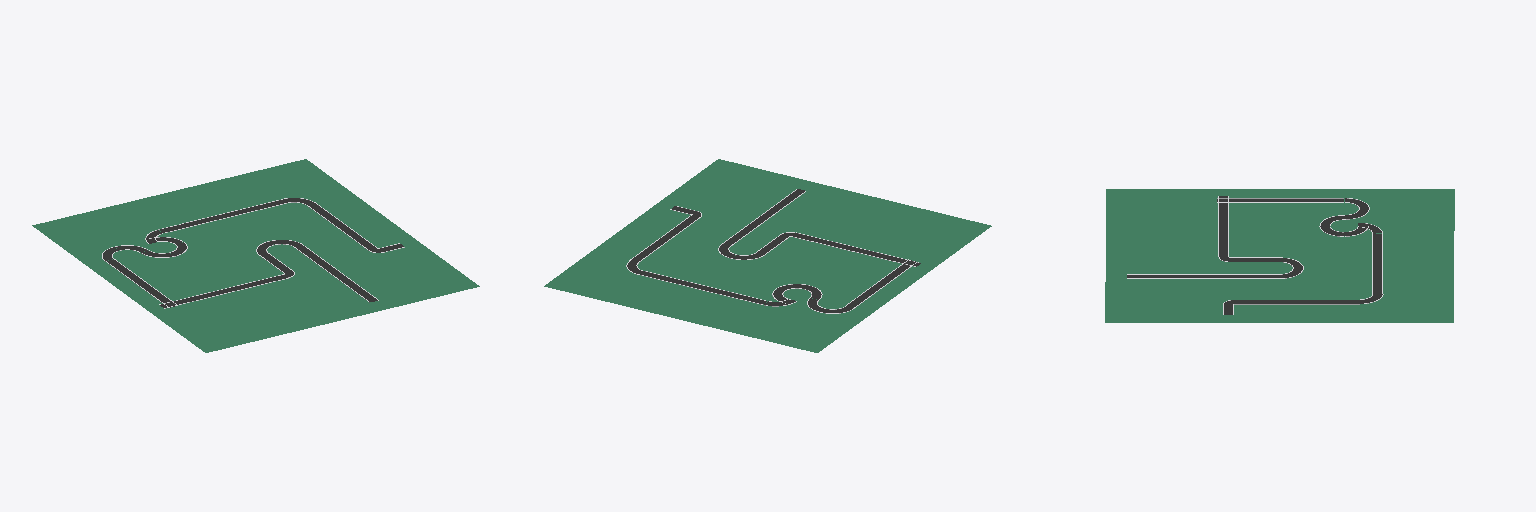
File: road6new.obj
3 renders of one model, left to right at view 1: azimuth 30°, elevation 25°; view 2: azimuth 150°, elevation 25°; view 3: azimuth 270°, elevation 25°, orthographic.
Parts seen in each view (by area): view 1: grass.001; view 2: grass.001; view 3: grass.001.
Part boxes in pixels (x1,y1,x2,y2): grass.001: (32,159,479,352); grass.001: (544,159,991,352); grass.001: (1105,189,1454,322).
Size of the model in its own units: 24.11 by 0.02 by 26.56.